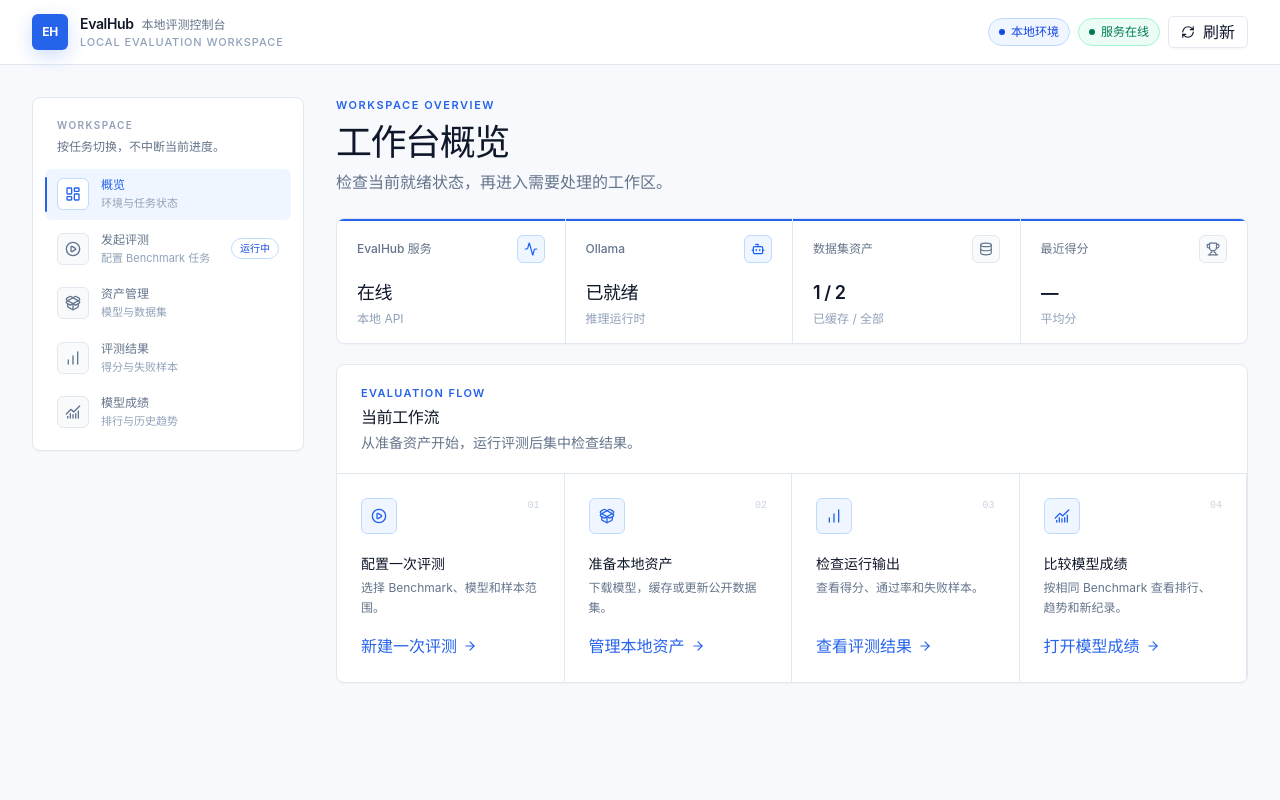
Test: EvalHub console › shows how many active FIFO tasks are ahead of a pending task
This screenshot has width=1280, height=800.
Click the button with aria-label "打开评测结果页面" at (168, 358), box [45, 332, 291, 383]
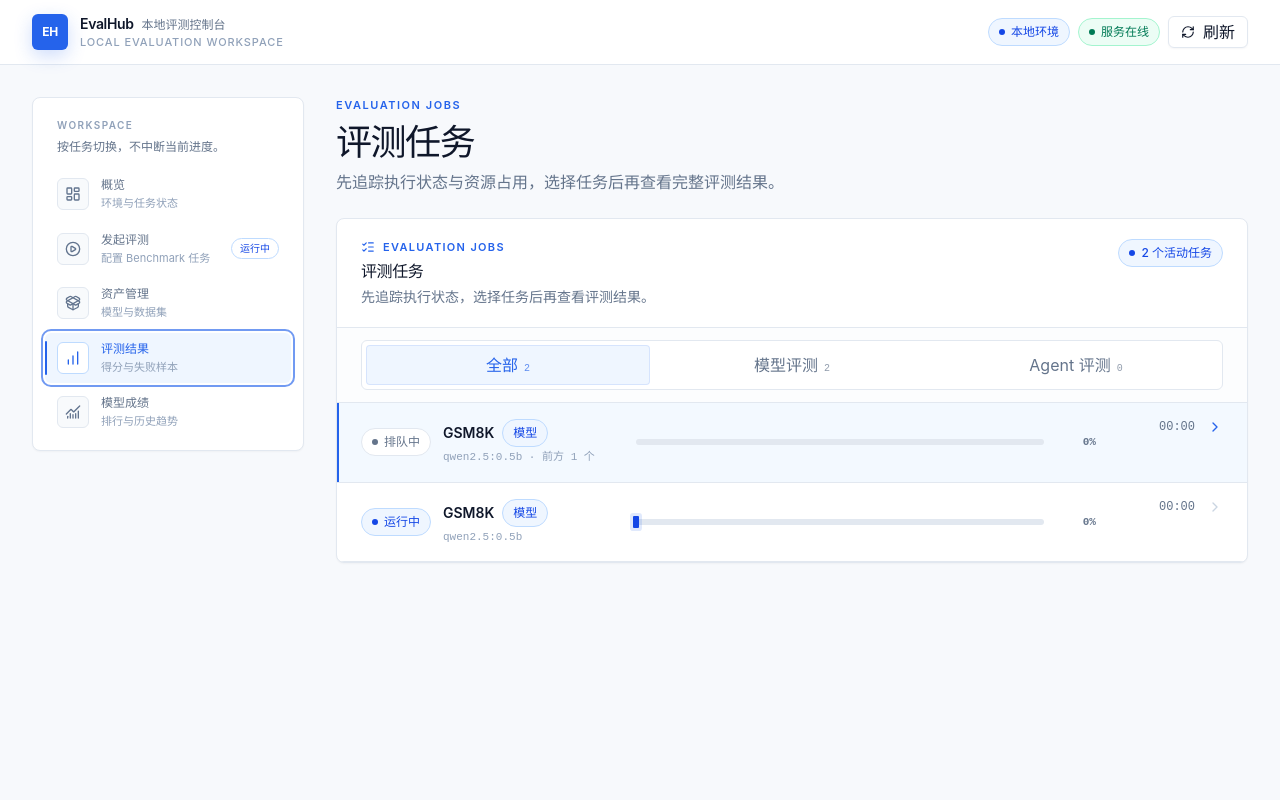
Click the button with aria-label "查看任务 job_pending" at (792, 443), box [337, 403, 1247, 482]
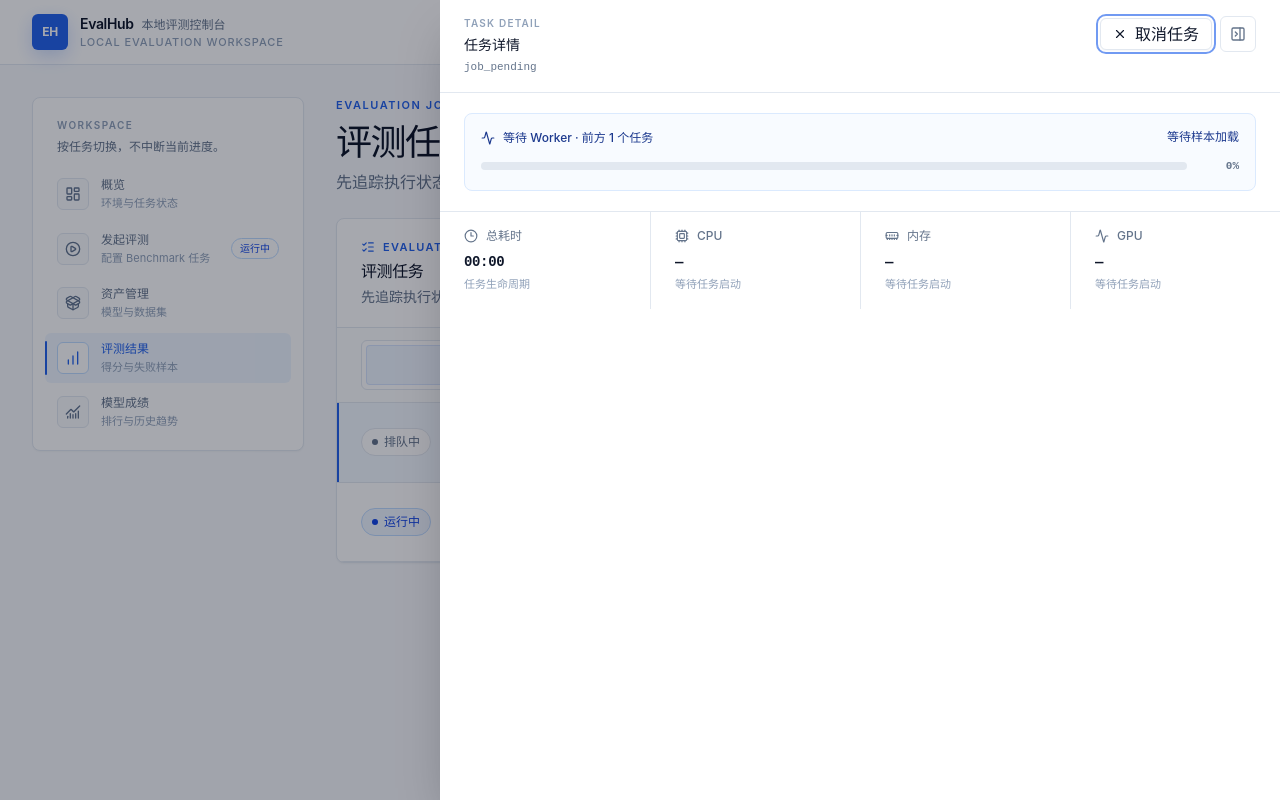
Expected: the text "等待 Worker · 前方 1 个任务" is shown, [481, 130, 653, 146]
